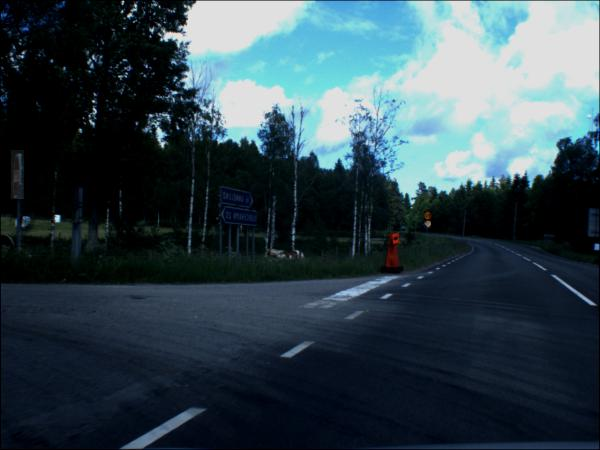80_SIGN: (424, 213, 433, 223)
PRIORITY_ROAD: (424, 223, 432, 231)
STOP: (11, 151, 25, 201)
